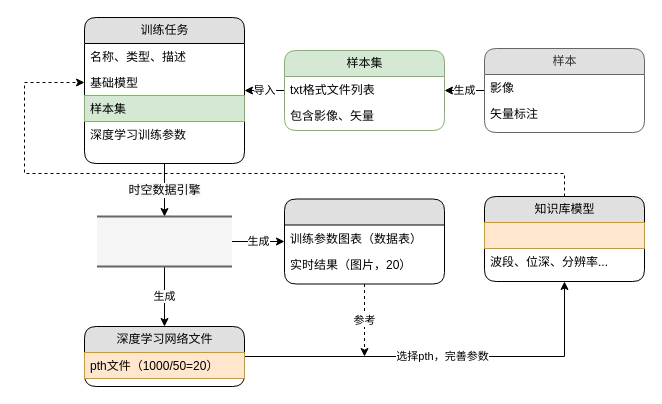
Image size: 662x404. Some labels were removed from this diagram. Each missing label, with the box of its shape:
pth文件: (484, 222, 644, 248)
深度学习框架: (96, 215, 232, 267)
训练可视化（1000）: (284, 198, 444, 284)
